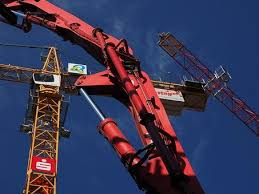excavator: (2, 0, 206, 193)
